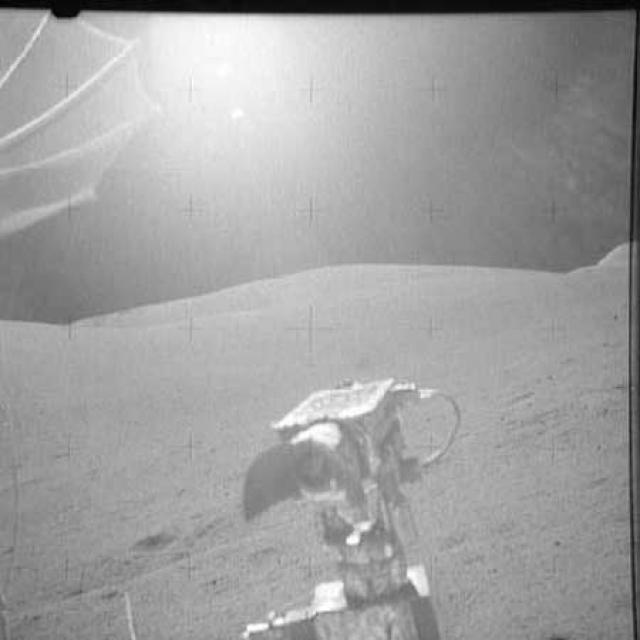artifact: (222, 359, 481, 639), (2, 5, 159, 260)
crater: (3, 522, 223, 582)
